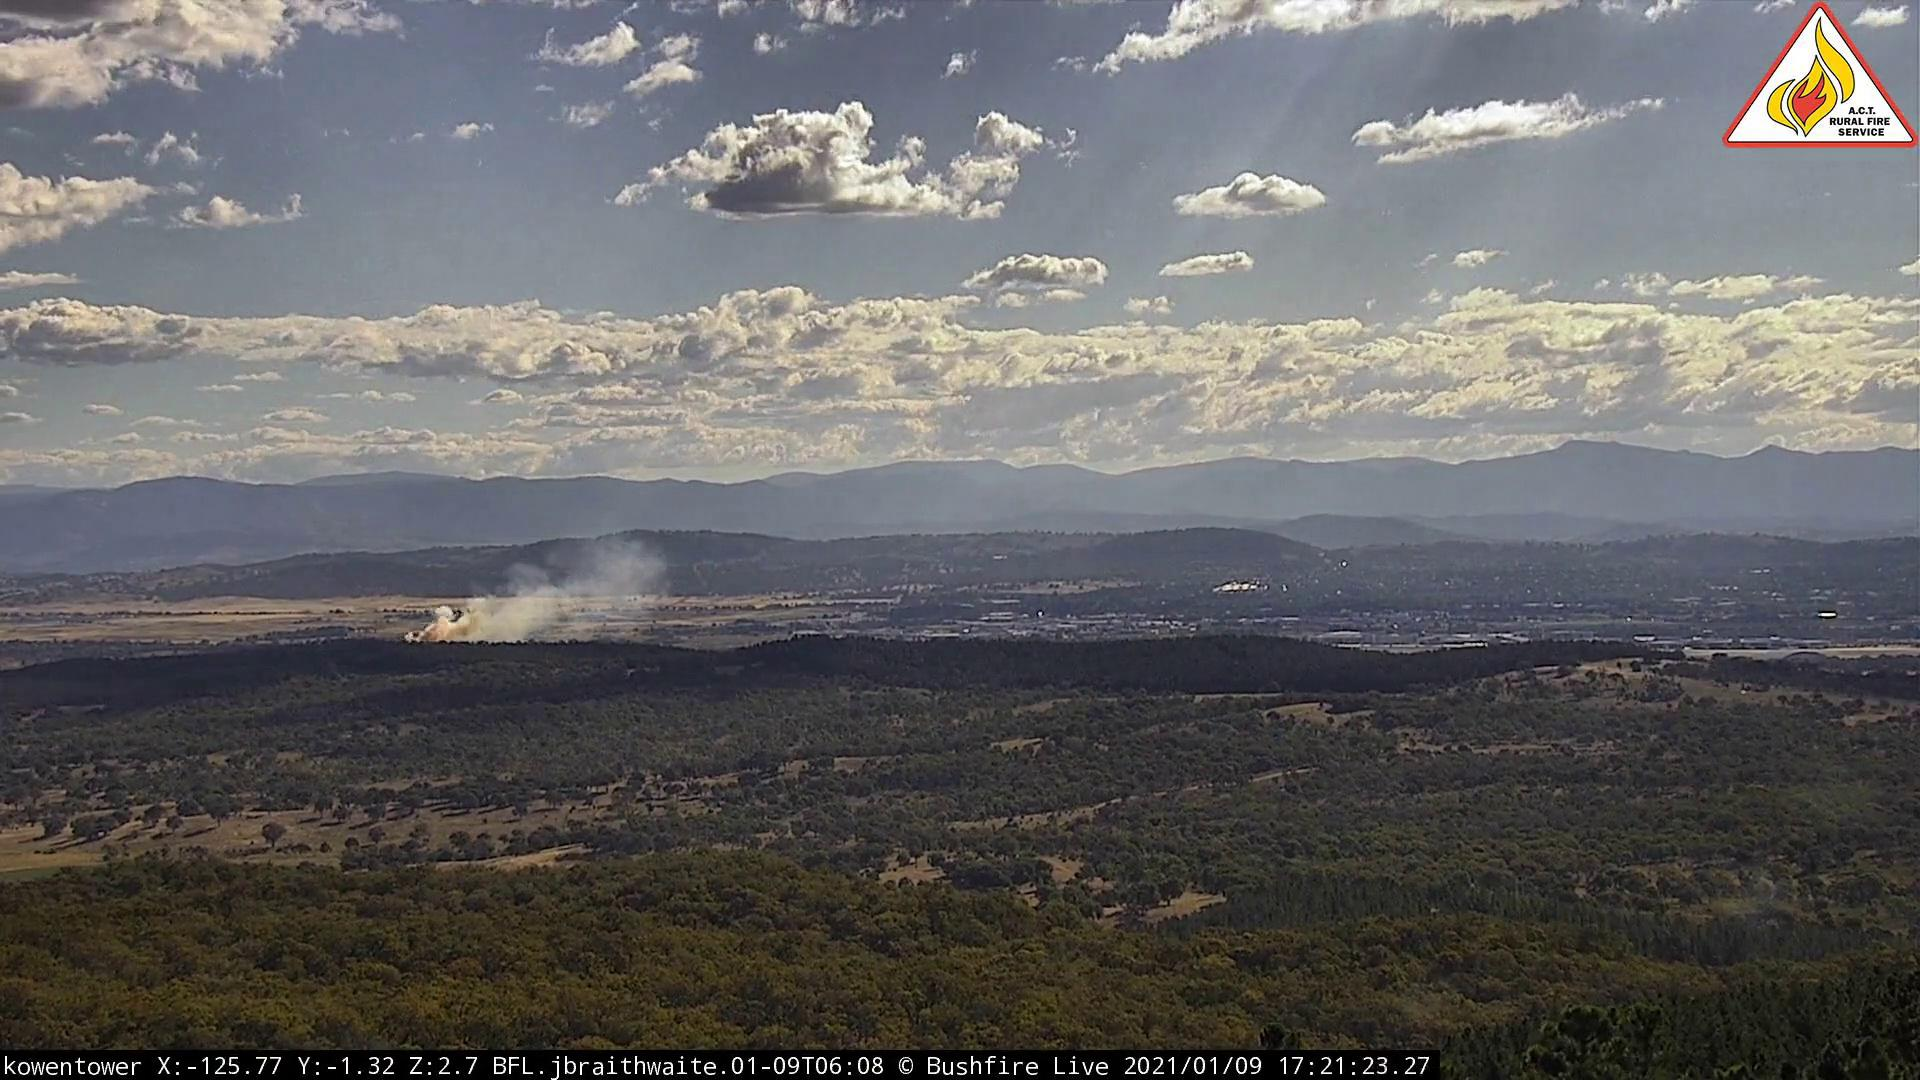Smoke: (392, 520, 682, 658)
